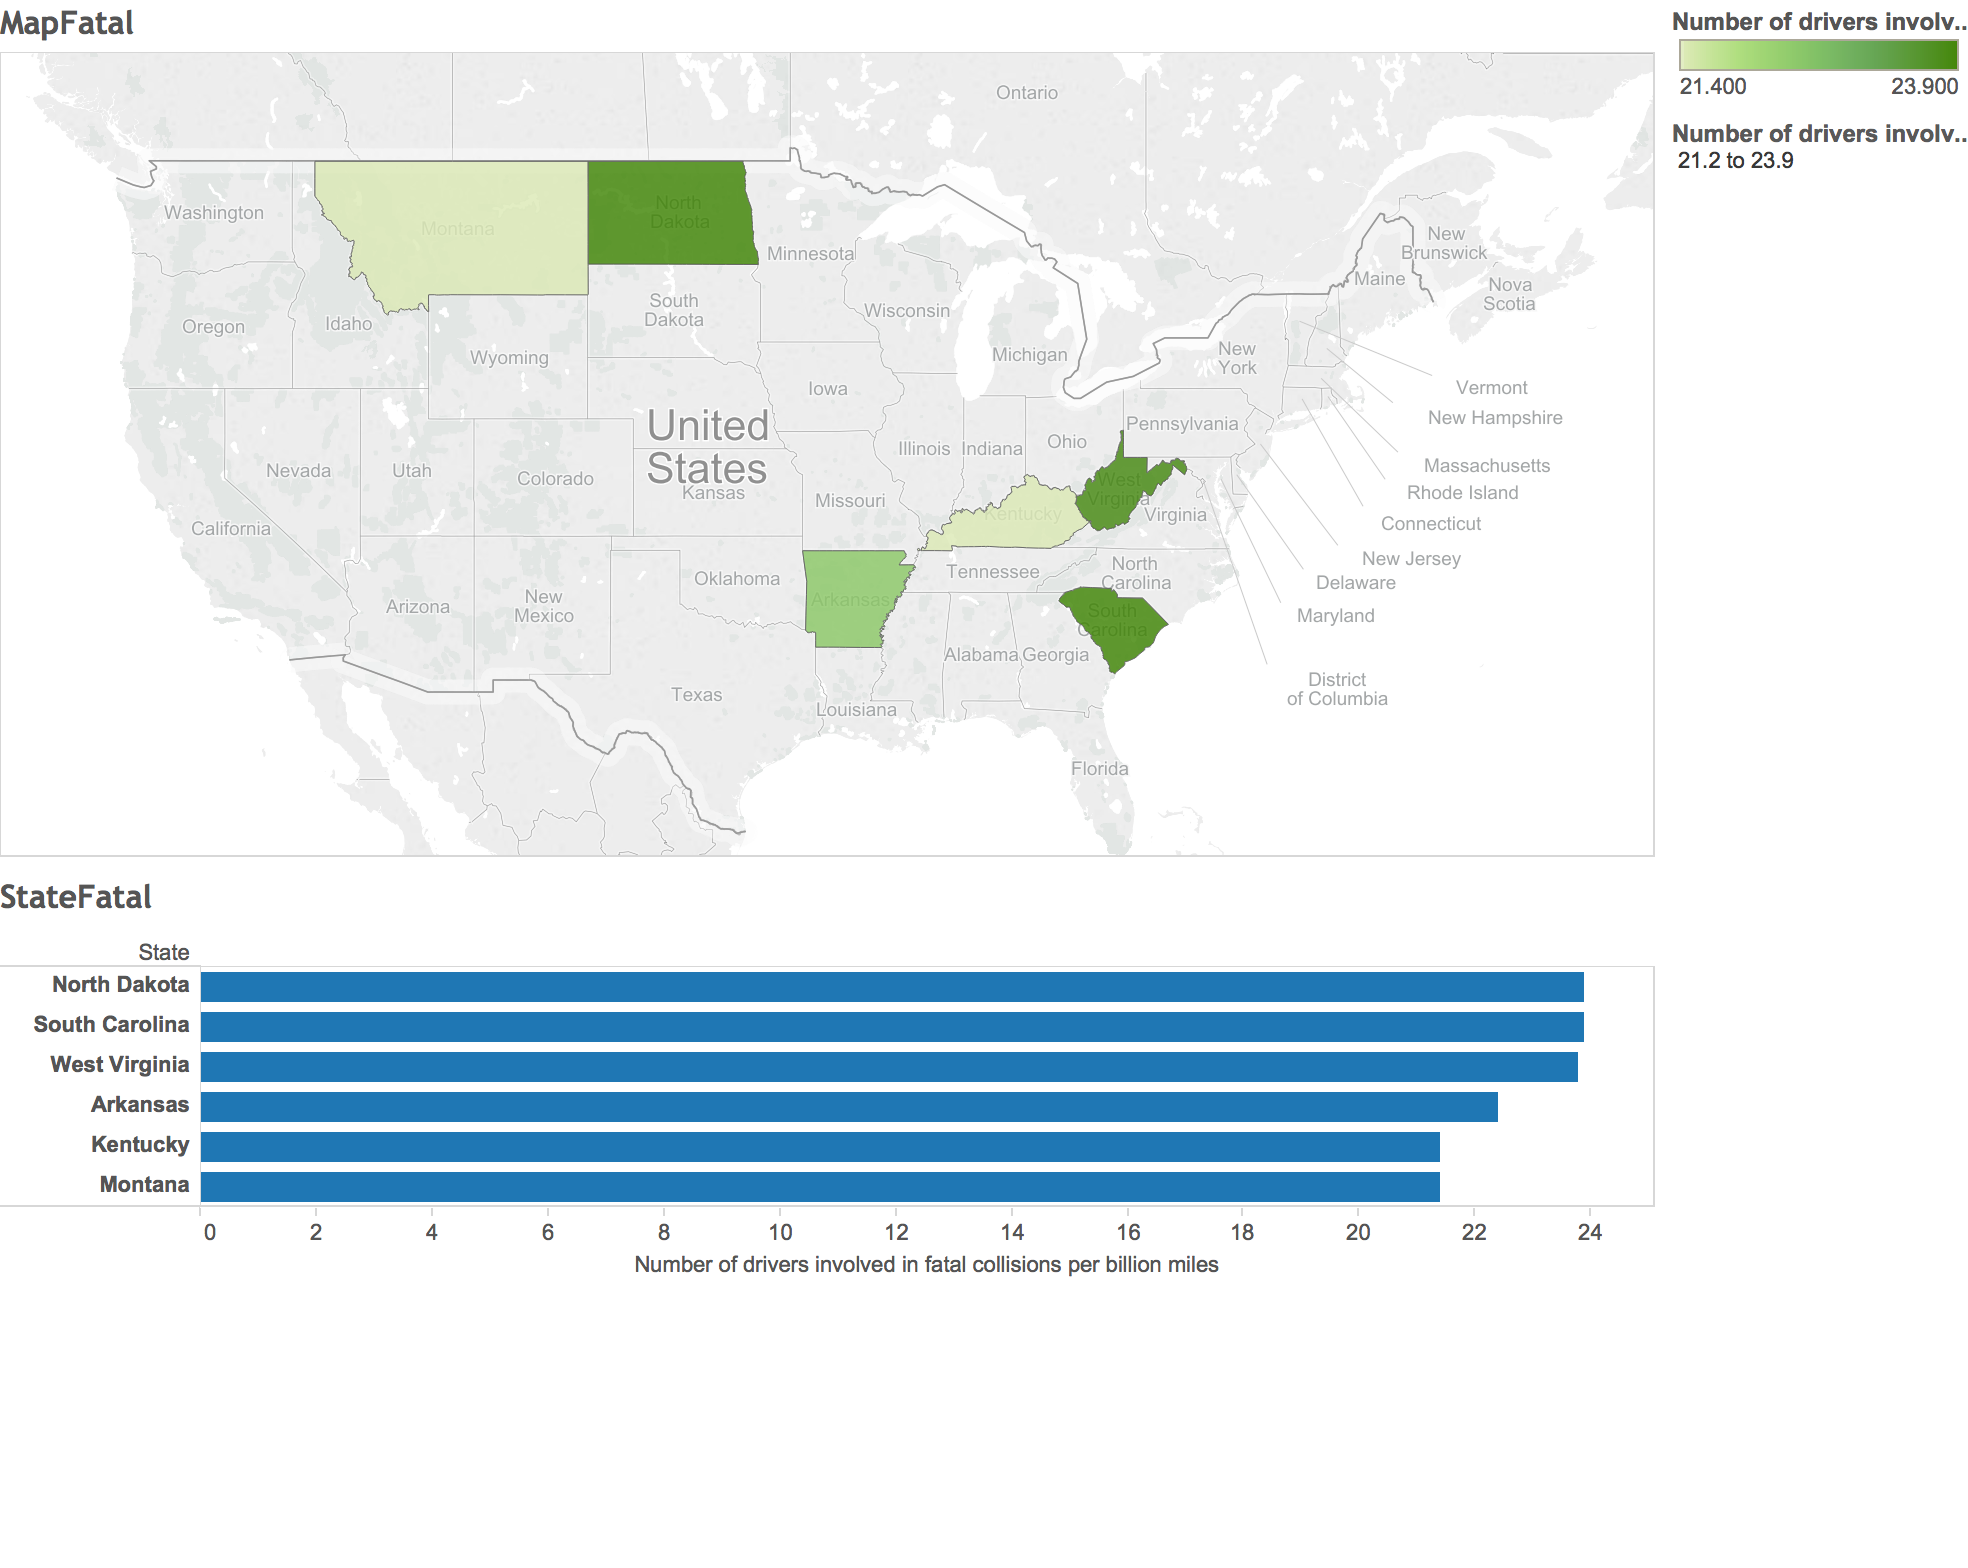

What the dashboard file says about the page in this screenshot:
{"tool":"tableau","page":{"name":"Dashboard 1","canvas":[1000,800],"ordinal":0},"visuals":[{"type":"worksheet","title":"MapFatal","mark":"Multipolygon","box":[0,0,840,441]},{"type":"legend","title":"MapFatal","param":"[textscan.0g8ufvw1q3f0x91awitfy1yd826i].[none:Number of drivers involved in fata","box":[840,0,160,62]},{"type":"filter","title":"StateFatal","param":"[textscan.0g8ufvw1q3f0x91awitfy1yd826i].[sum:Number of drivers involved in fatal","box":[840,62,160,66]},{"type":"worksheet","title":"StateFatal","mark":"Automatic","rows":["State"],"cols":["Number of drivers involved in fatal collisions per billion m"],"box":[0,441,840,359]}]}

Visuals, with their boxes in screenshot pixels (x1, y1, x2, y2), scaled from the page's 1000x800 canvas onto the 1968x1568 screenshot:
"MapFatal" worksheet (Multipolygon marks): BBox(0, 0, 1653, 864)
"MapFatal" legend: BBox(1653, 0, 1967, 122)
"StateFatal" filter: BBox(1653, 122, 1967, 251)
"StateFatal" worksheet: BBox(0, 864, 1653, 1567)
